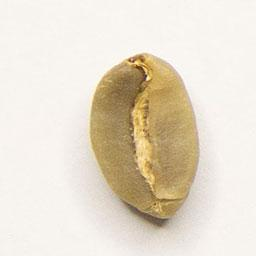longberry: (85, 48, 201, 224)
